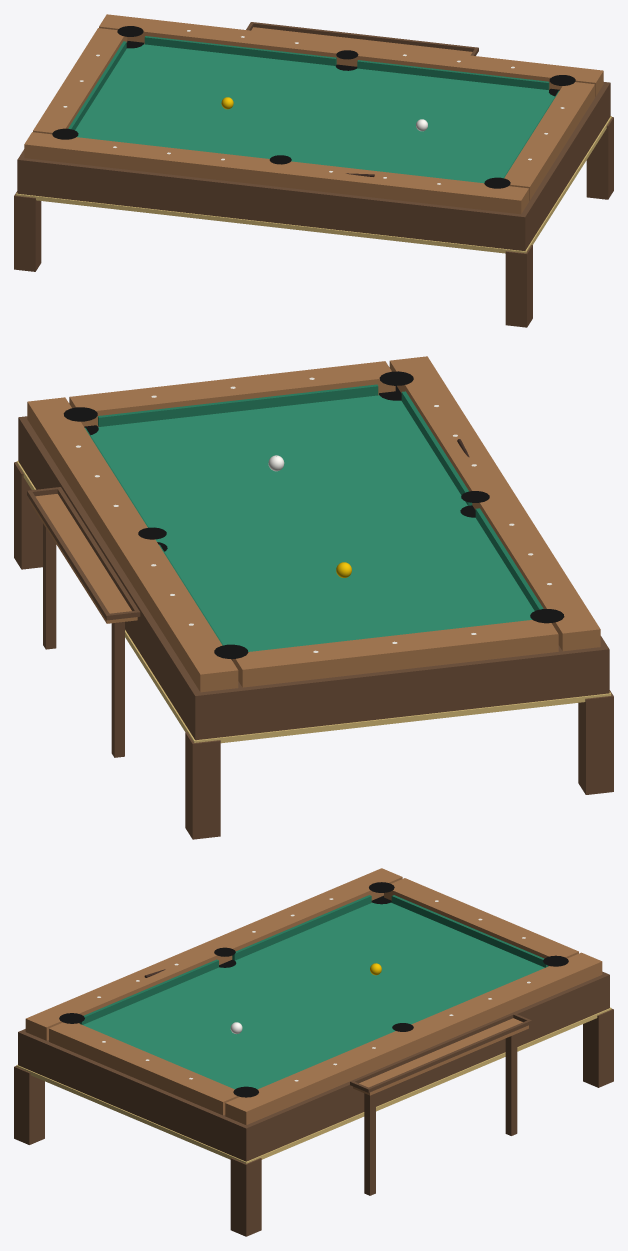
The model's file is billard2.glb.
3 views of the same model, one above another, from view 1: azimuth 30°, elevation 25°; view 2: azimuth 150°, elevation 25°; view 3: azimuth 270°, elevation 25° (orthographic). The views are drawn at different scales.
Parts seen in each view (by area): view 1: felt, rails, base, legs, cushions, tray, pockets; view 2: felt, rails, base, legs, tray, cushions, pockets; view 3: felt, rails, base, legs, tray, cushions, pockets.
Part boxes in pixels (left/top/right/bottom): felt: left=75, top=44, right=554, bottom=183; rails: left=24, top=14, right=603, bottom=214; base: left=16, top=82, right=611, bottom=253; legs: left=14, top=117, right=613, bottom=327; cushions: left=68, top=36, right=559, bottom=178; tray: left=246, top=22, right=478, bottom=55; pockets: left=52, top=26, right=575, bottom=188; felt: left=91, top=395, right=534, bottom=651; rails: left=27, top=356, right=600, bottom=692; base: left=16, top=416, right=611, bottom=743; legs: left=14, top=462, right=613, bottom=839; tray: left=27, top=487, right=140, bottom=757; cushions: left=85, top=384, right=543, bottom=645; pockets: left=63, top=371, right=564, bottom=660; felt: left=83, top=902, right=544, bottom=1089; rails: left=25, top=868, right=602, bottom=1125; base: left=16, top=971, right=611, bottom=1163; legs: left=14, top=1009, right=613, bottom=1236; tray: left=350, top=1012, right=531, bottom=1195; cushions: left=79, top=895, right=548, bottom=1024; pockets: left=59, top=882, right=568, bottom=1097.
Bounding box in the file's own units: 10.96 × 2.46 × 10.96.
